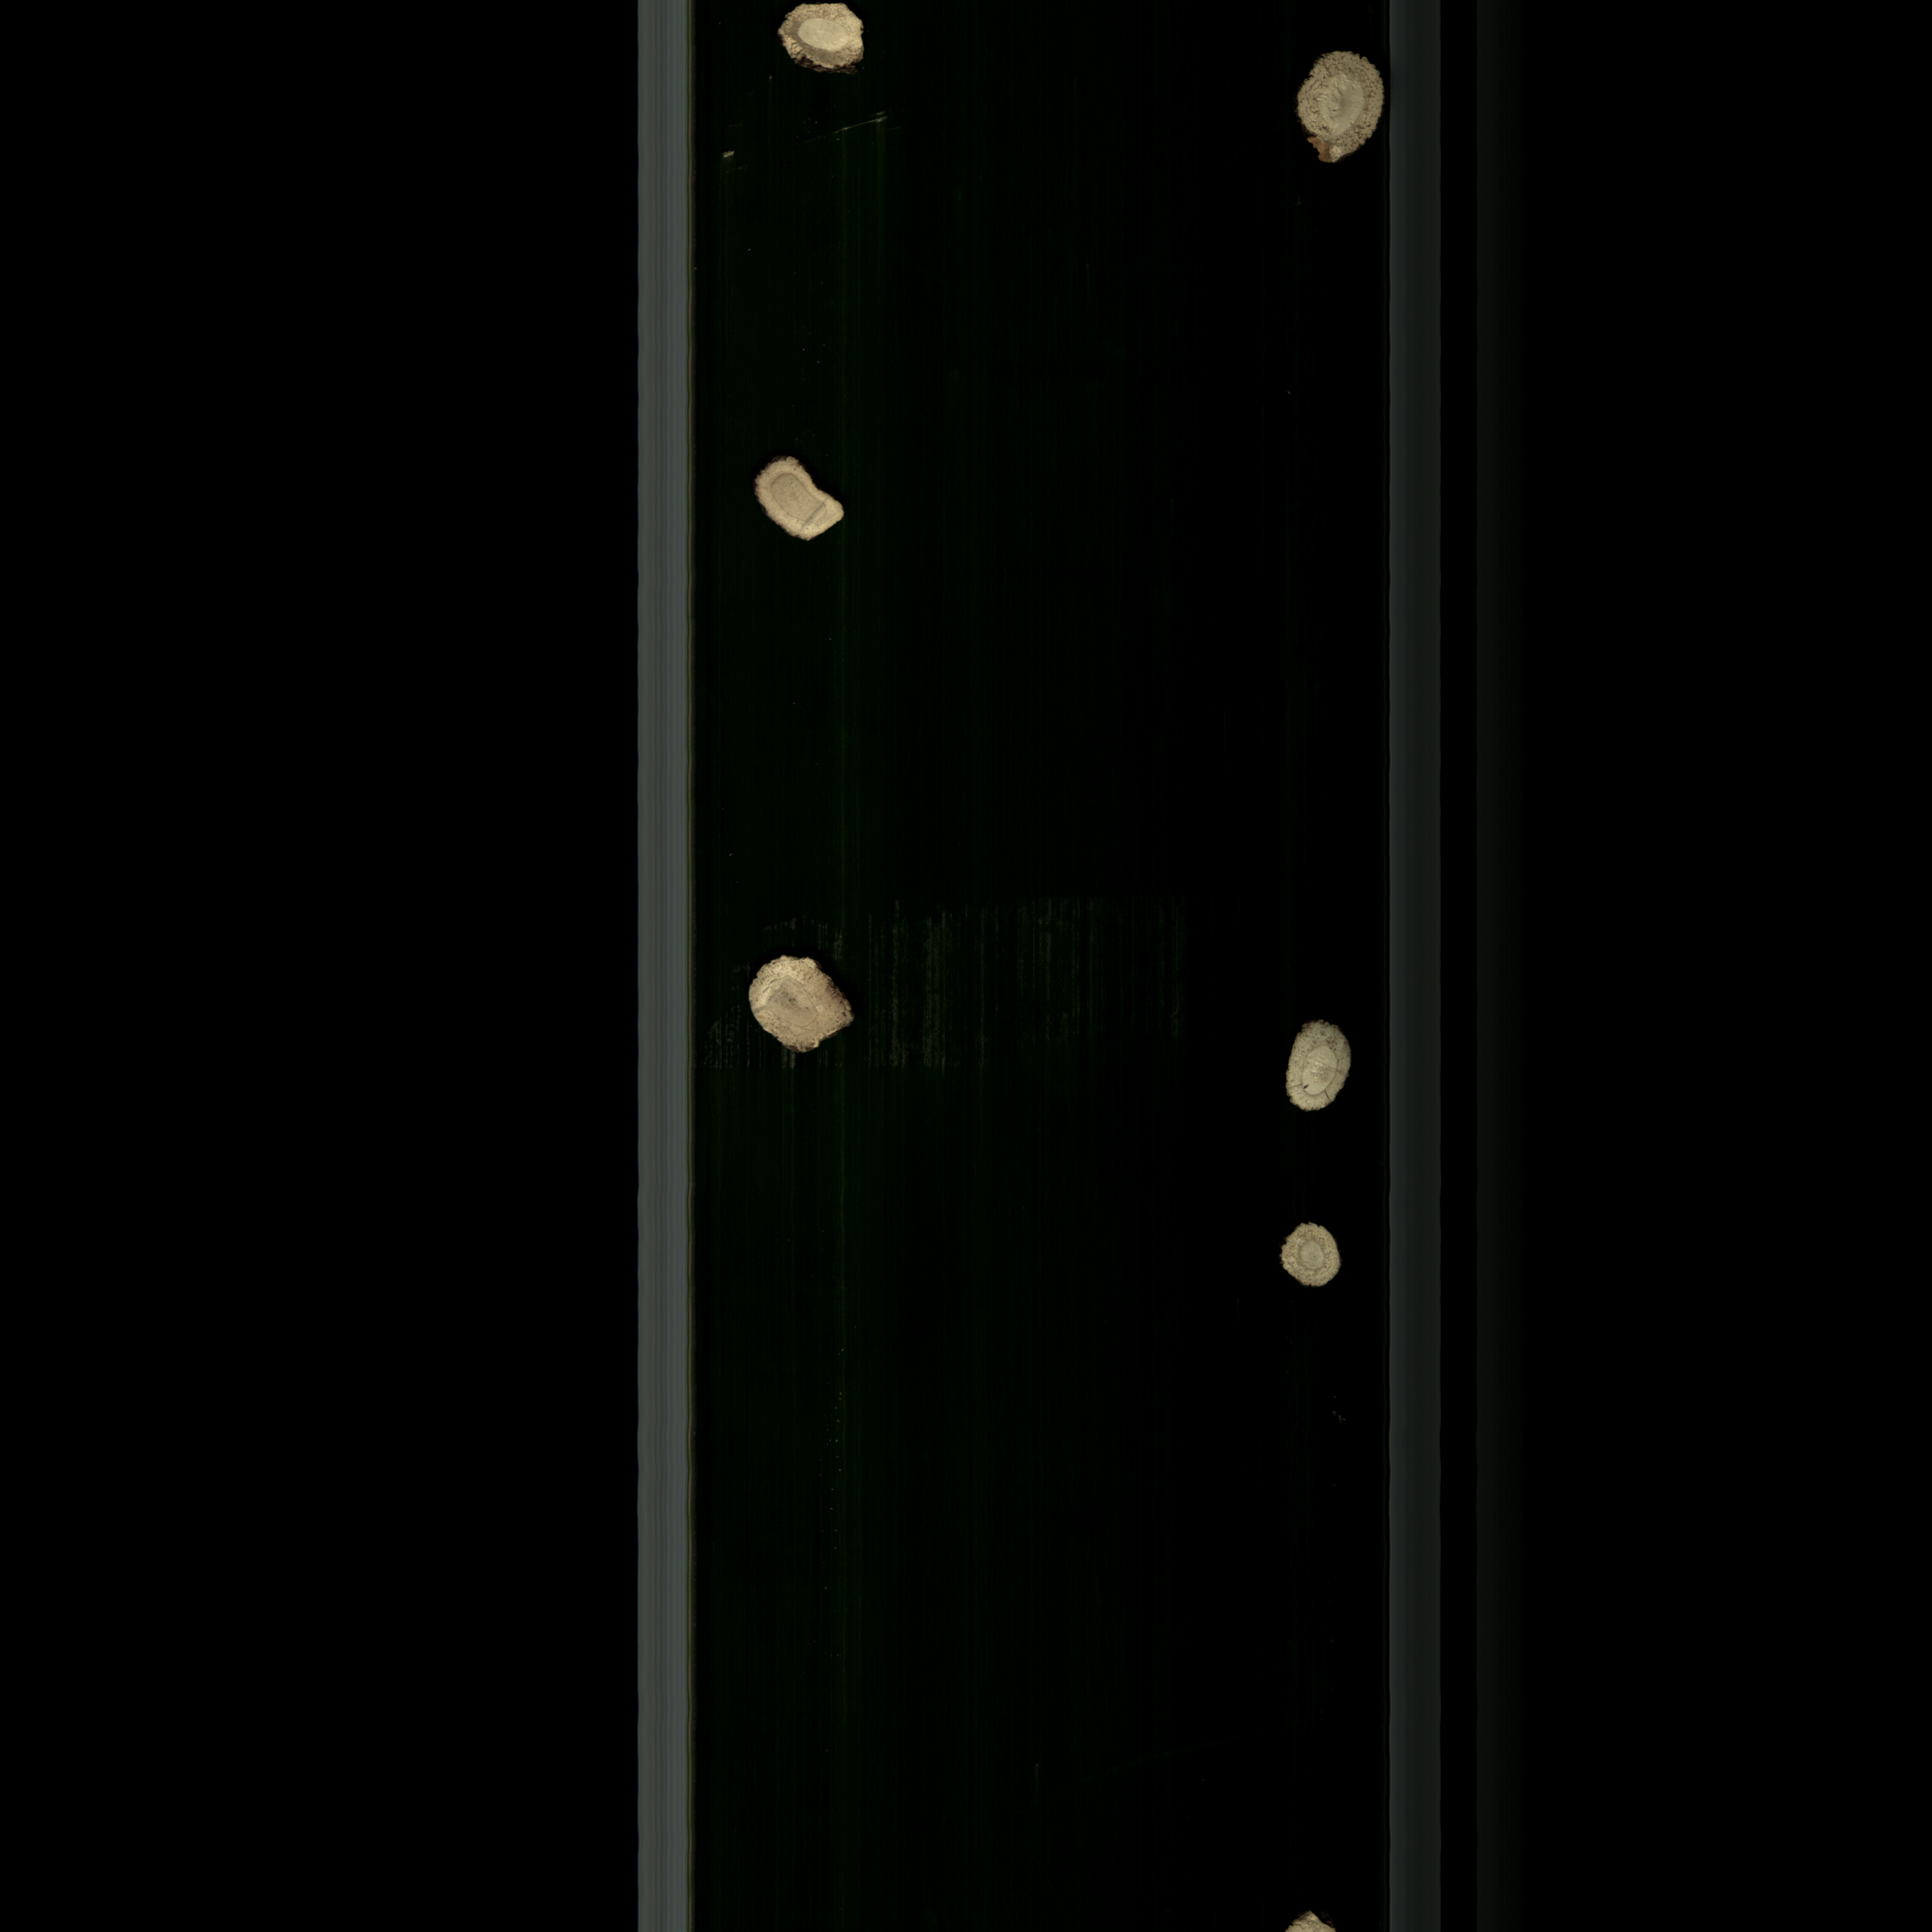debris: (736, 950, 863, 1063), (740, 455, 863, 559)
moldy: (1292, 44, 1391, 168), (775, 0, 876, 80), (1277, 1217, 1346, 1297)
